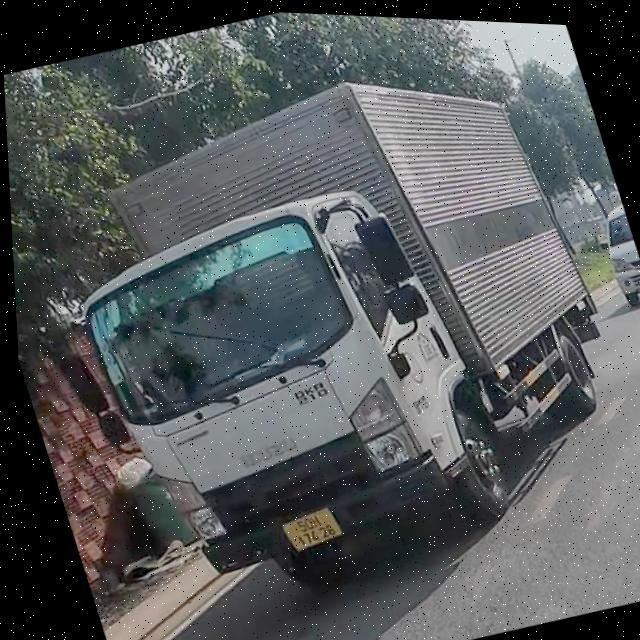car: (21, 22, 640, 631), (591, 198, 640, 313)
plate: (270, 493, 349, 560)
